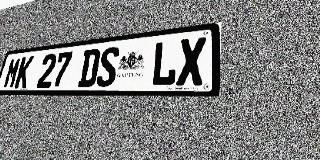2: (36, 53, 58, 88)
7: (51, 51, 73, 88)
D: (77, 48, 101, 87)
K: (14, 56, 34, 88)
L: (150, 40, 179, 86)
M: (2, 57, 22, 88)
S: (95, 46, 120, 87)
X: (176, 37, 206, 86)
